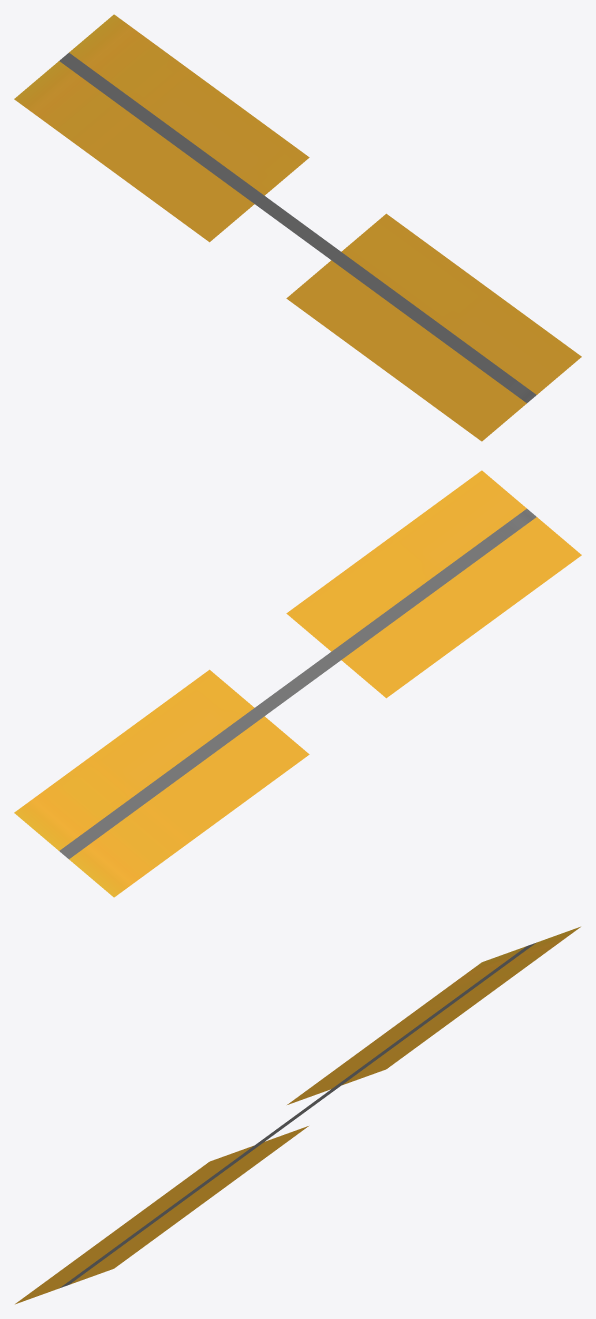
Rendered from Espelhos.glb.
The picture shows the model from 3 angles, top to bottom: view 1: azimuth 30°, elevation 25°; view 2: azimuth 150°, elevation 25°; view 3: azimuth 330°, elevation 25°; orthographic projection.
Parts seen in each view (by area): view 1: Espelhos; view 2: Espelhos; view 3: Espelhos.
Part boxes in pixels (box(x1,y1,x2,y2)): Espelhos: box(14, 14, 581, 441); Espelhos: box(14, 470, 581, 897); Espelhos: box(15, 926, 580, 1304).
Size of the model in its own units: 2.09 by 1.21 by 16.94.
Materials: 1 (1 with a texture image).
